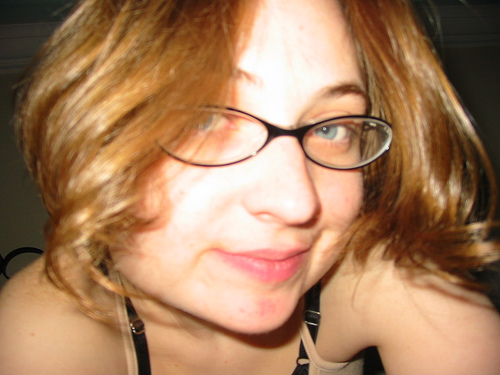without_mask: (92, 6, 372, 340)
